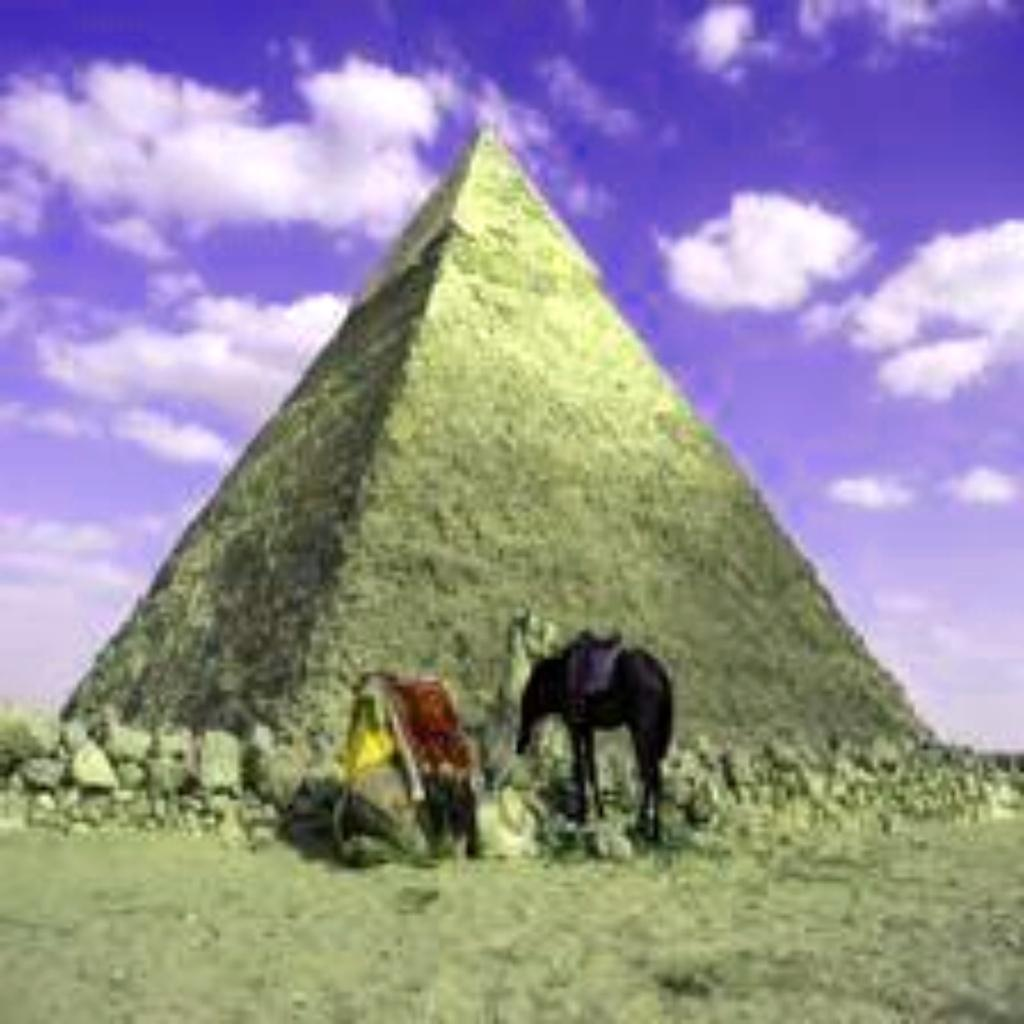Great Pyramids of Giza: (36, 105, 988, 832)
